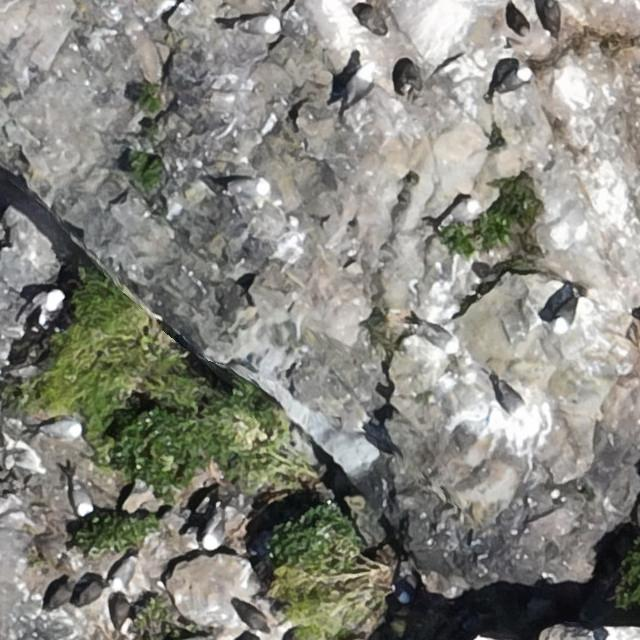umineko: (341, 62, 376, 109), (24, 289, 66, 325), (424, 317, 460, 353), (203, 504, 228, 550), (441, 198, 477, 228), (226, 178, 275, 196), (500, 388, 526, 416), (42, 420, 81, 438), (500, 69, 529, 92), (240, 16, 279, 33), (74, 486, 94, 518), (112, 560, 133, 590), (554, 300, 574, 330)
